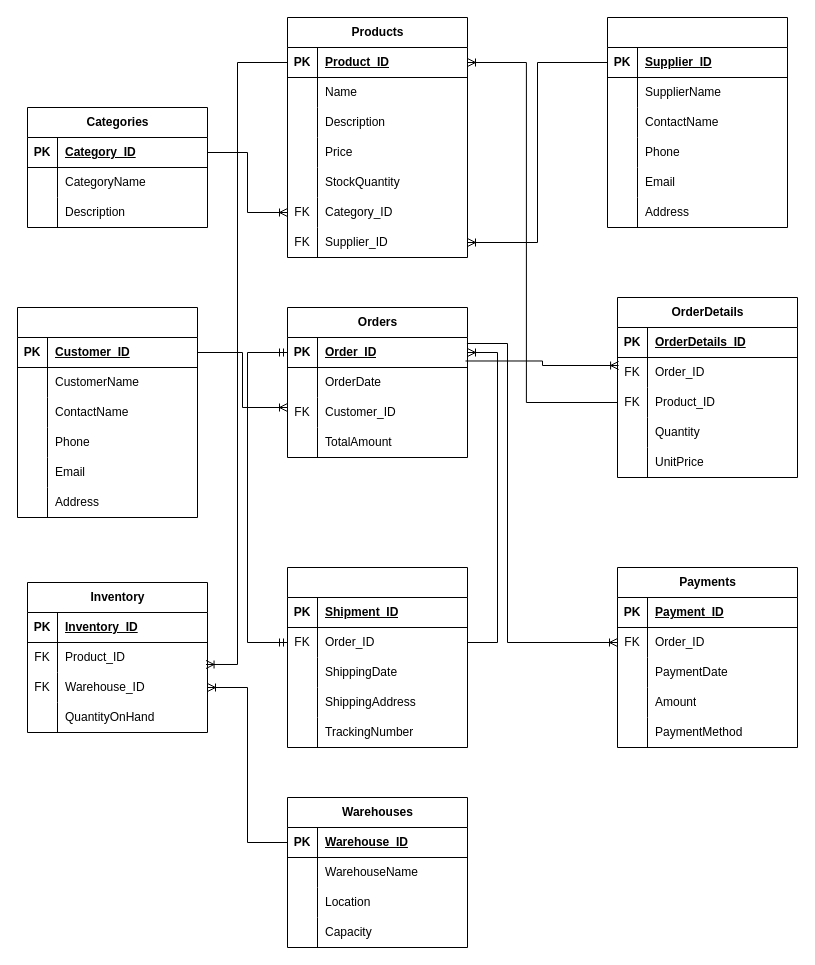
Image size: 815x965. Some labels were removed from this diagram. The shapes that lost their labels are listed below. From the top down, each one's box as (x1, y1, x2, y2) in pixels, then its label:
(606, 16, 788, 228): Suppliers
(16, 306, 198, 518): Customers
(286, 566, 468, 748): Shipments
